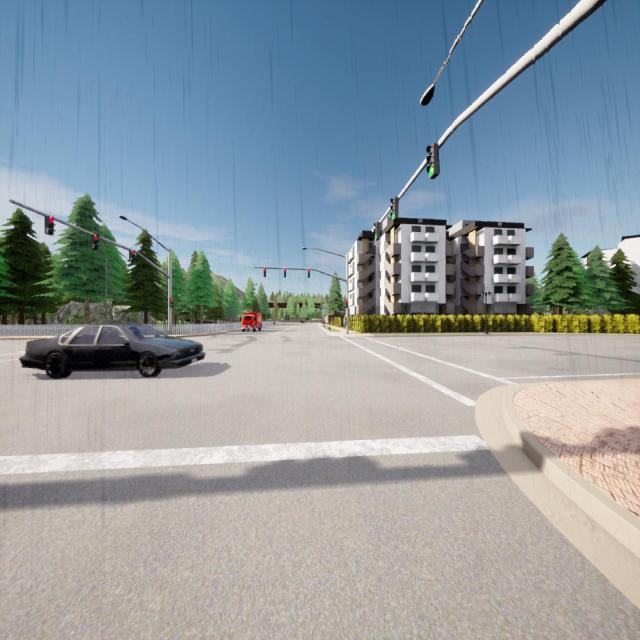Vehicle: (20, 325, 206, 378), (241, 311, 262, 332), (299, 320, 304, 322)
traffic_light: (427, 143, 439, 179), (44, 215, 54, 235), (391, 197, 398, 221), (373, 222, 380, 241), (92, 235, 99, 250), (129, 250, 135, 262), (169, 298, 174, 308), (263, 268, 266, 277), (284, 268, 286, 278), (308, 268, 310, 278), (346, 299, 348, 308)
